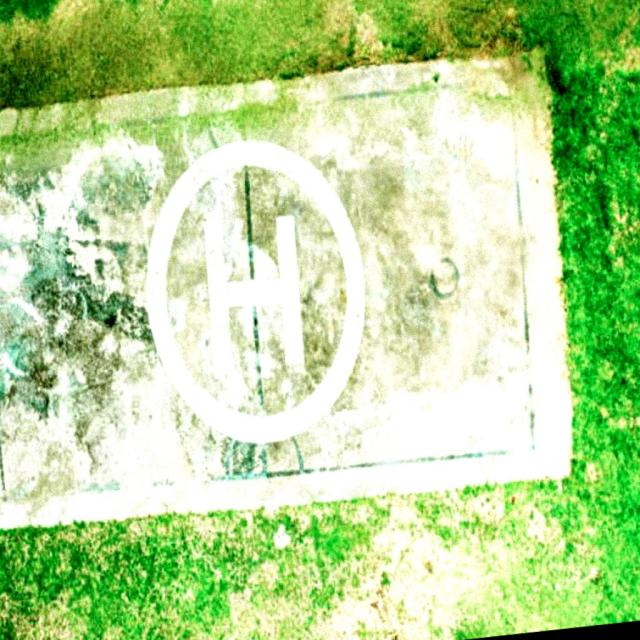helipad: (139, 134, 372, 450)
